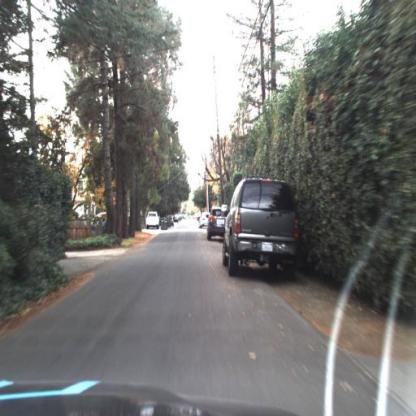car: (221, 172, 302, 281), (206, 207, 229, 243), (194, 208, 210, 235), (144, 209, 161, 232), (172, 214, 180, 226)
